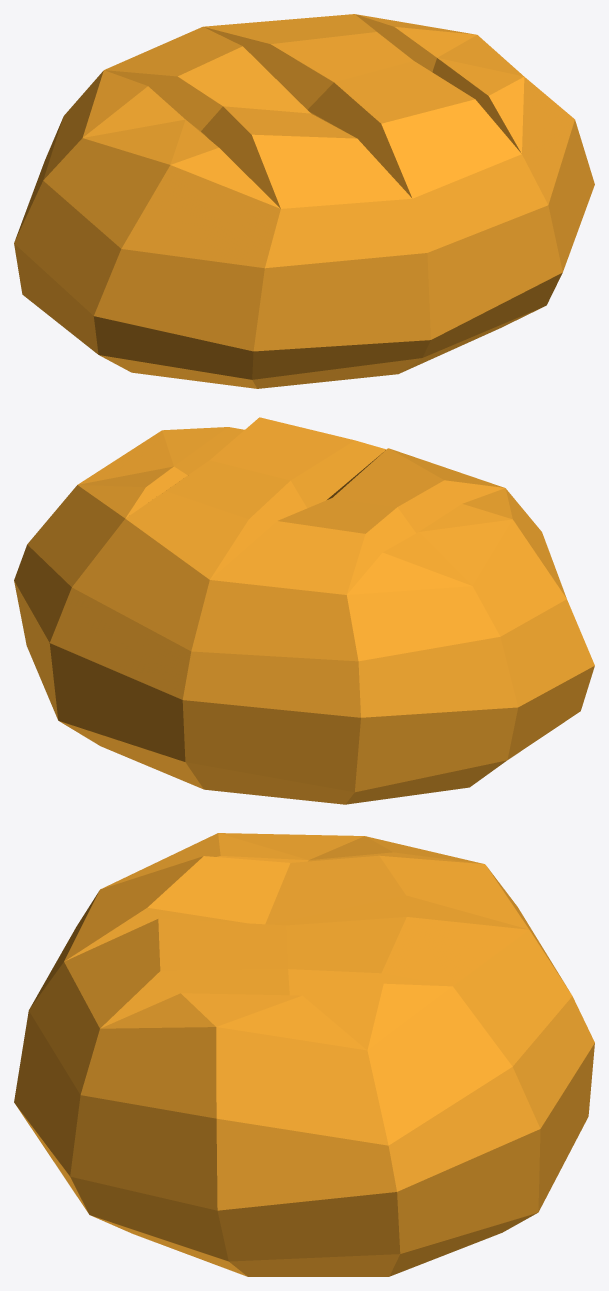
Rendered from SM_Bread_Toasted.fbx.
3 views of the same model, one above another, from view 1: azimuth 30°, elevation 25°; view 2: azimuth 150°, elevation 25°; view 3: azimuth 270°, elevation 25° (orthographic). The views are drawn at different scales.
Parts seen in each view (by area): view 1: bread-toasted; view 2: bread-toasted; view 3: bread-toasted.
Boxes of the visible parts, x1,y1,x2,y2 form: bread-toasted: (14, 14, 594, 388); bread-toasted: (14, 417, 594, 804); bread-toasted: (14, 833, 594, 1276).
Size of the model in its own units: 0.3523 by 0.1533 by 0.3065.
